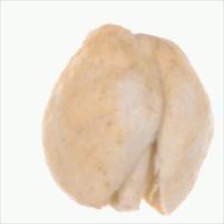L3: (99, 141, 170, 217)
L4: (41, 23, 212, 217)
